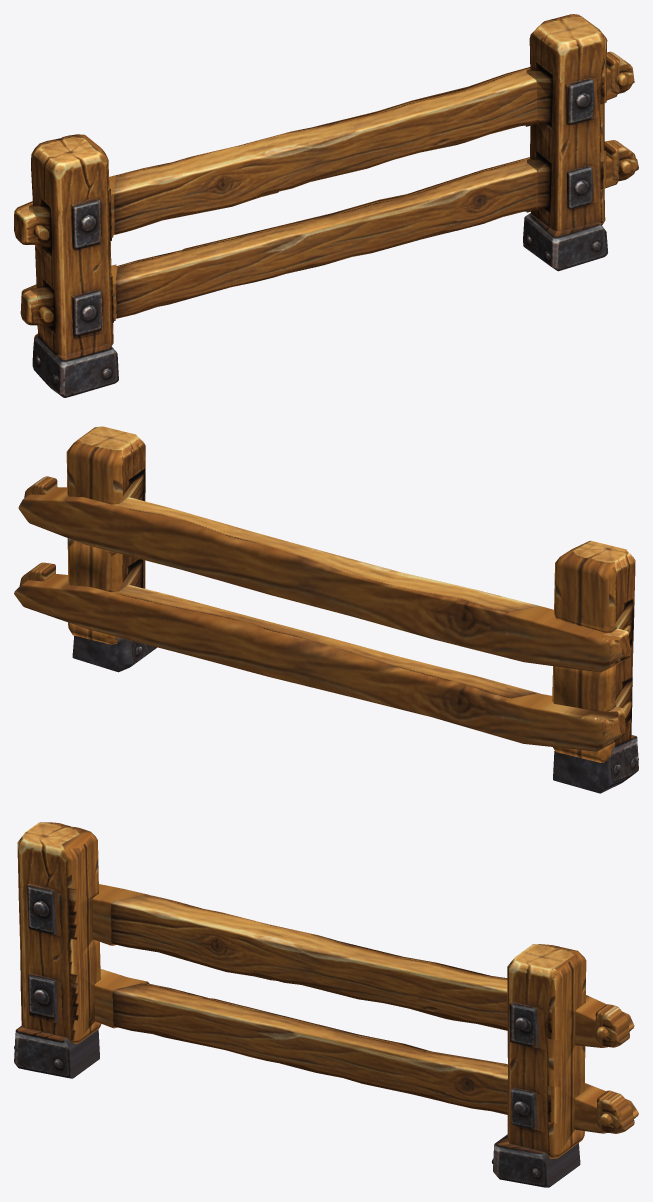
File: mound_fence.glb
3 renders of one model, top to bottom at view 1: azimuth 30°, elevation 25°; view 2: azimuth 150°, elevation 25°; view 3: azimuth 330°, elevation 25°, orthographic. The views are drawn at different scales.
Visible parts, largest first — view 1: mound_fence; view 2: mound_fence; view 3: mound_fence.
Part boxes in pixels (bbox=[...]): mound_fence: bbox=[14, 14, 638, 397]; mound_fence: bbox=[14, 426, 638, 793]; mound_fence: bbox=[14, 822, 638, 1187].
Bounding box in the file's own units: 2 × 0.7273 × 0.2404.
1 material, 1 textured.
